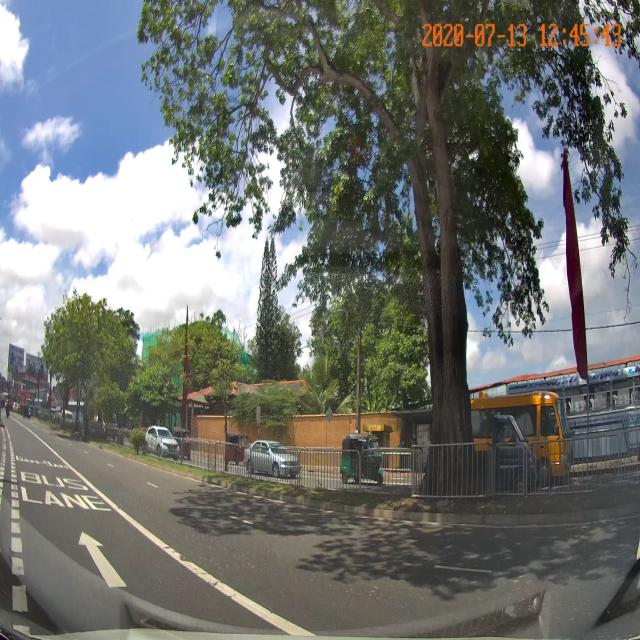forward: (13, 520, 277, 626)
